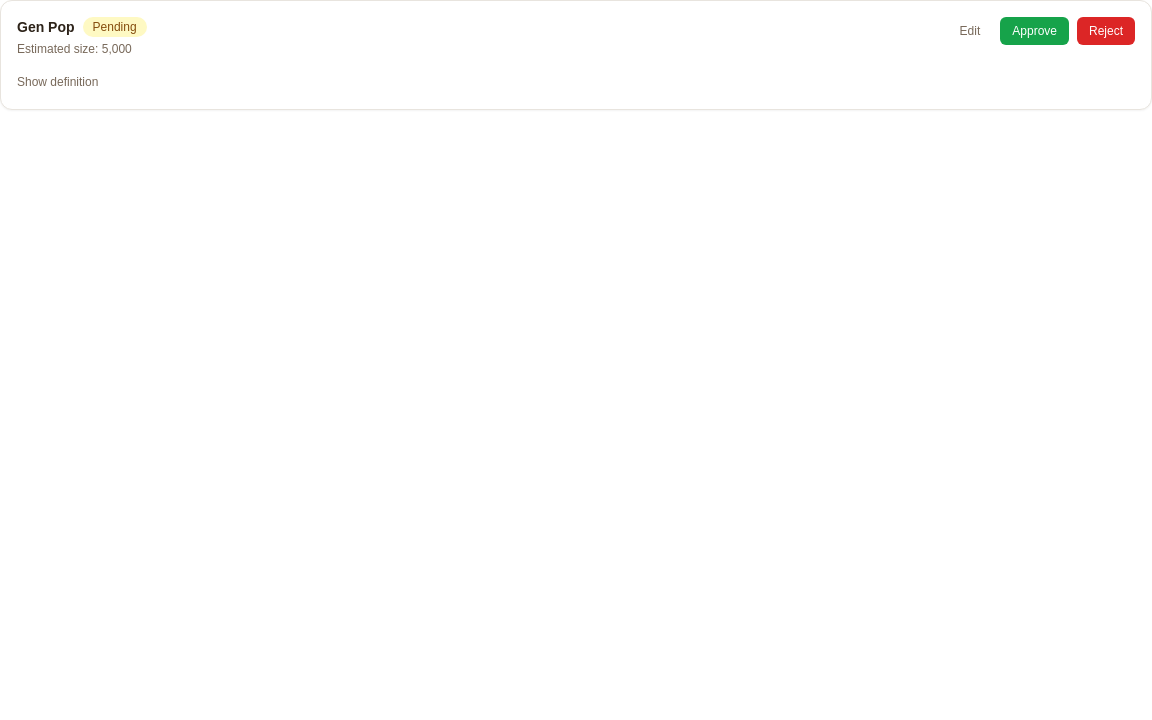
Test case: SegmentCard › reject action with confirmation › opens reject dialog when Reject is clicked
The width and height of the screenshot is (1152, 720).
Step 1. Click the button "Reject" → coordinates (1106, 31), box [1077,17,1135,45]
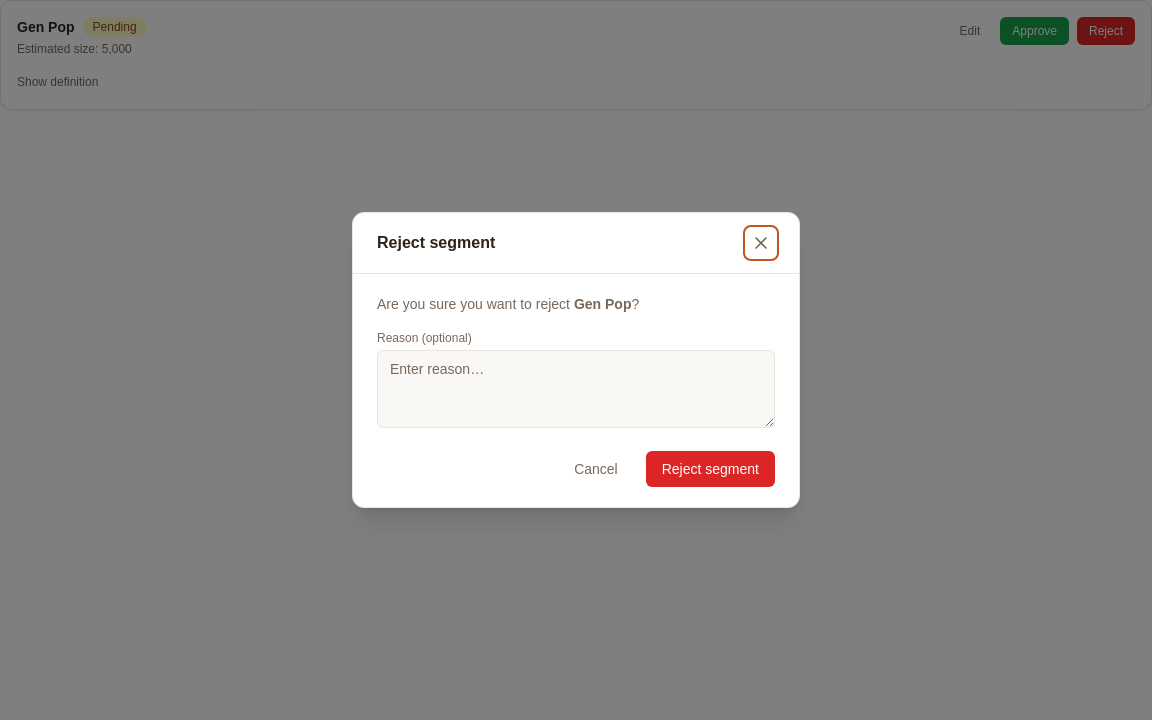
Expected: the dialog "Reject segment" is shown, [352,212,800,508]
